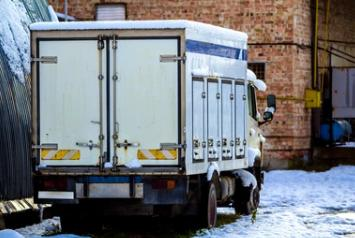vehicle: (28, 20, 275, 229)
